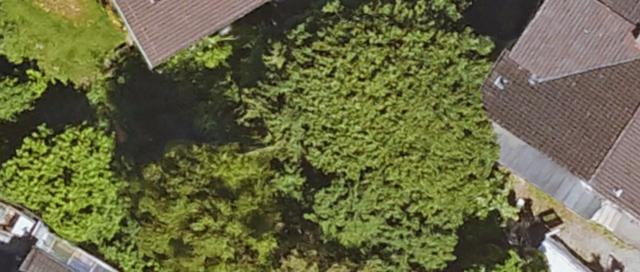tree: (247, 1, 495, 264), (118, 146, 275, 272), (4, 123, 130, 233)
